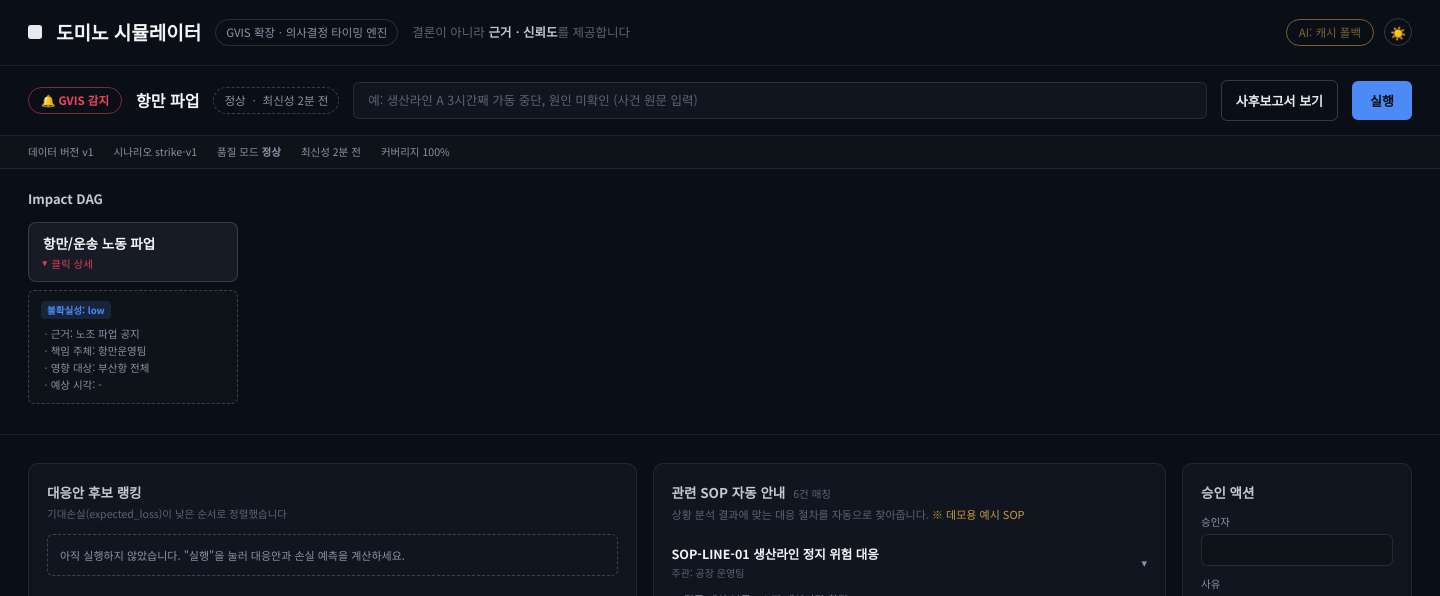
IncidentDetailPage — 최초 실행 › 최초 실행이 실패하면 에러 메시지를 보여주고 버튼 라벨은 '실행'으로 유지한다
Expected: the text "항만 파업" is shown, [136,88,199,112]
Click the button "실행" at (1382, 100), box [1352,80,1412,120]
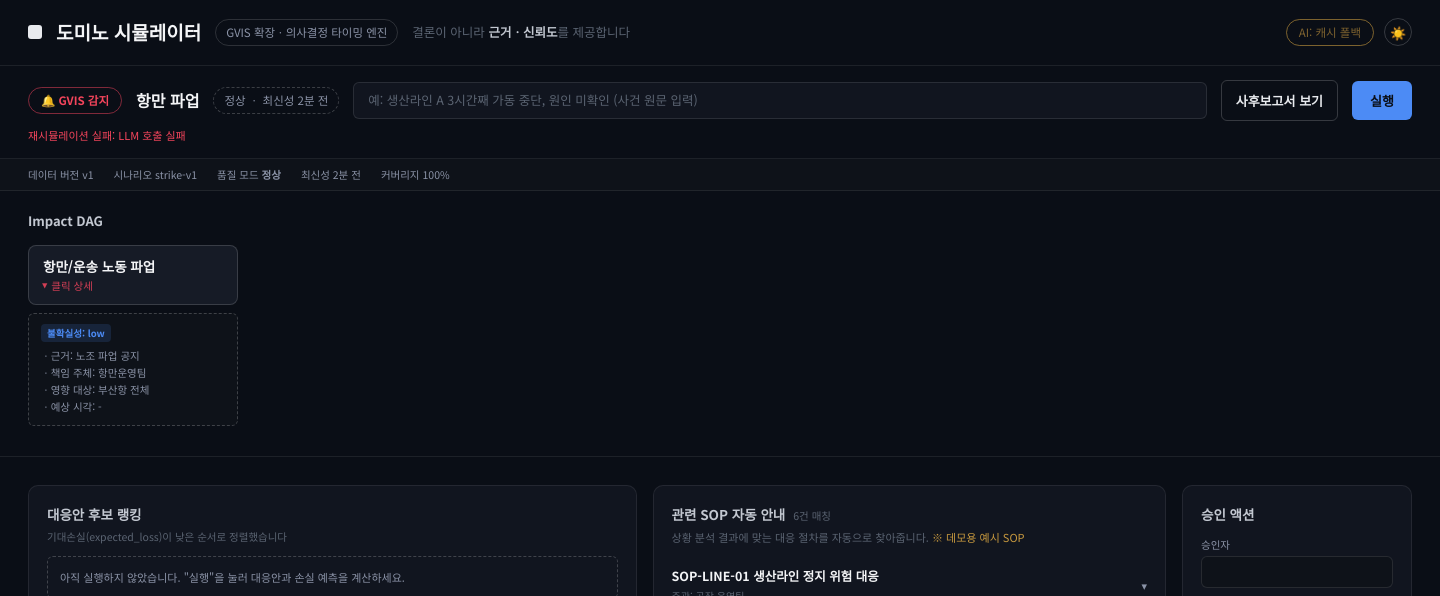
Expected: the text "재시뮬레이션 실패: LLM 호출 실패" is shown, [28,127,186,143]
